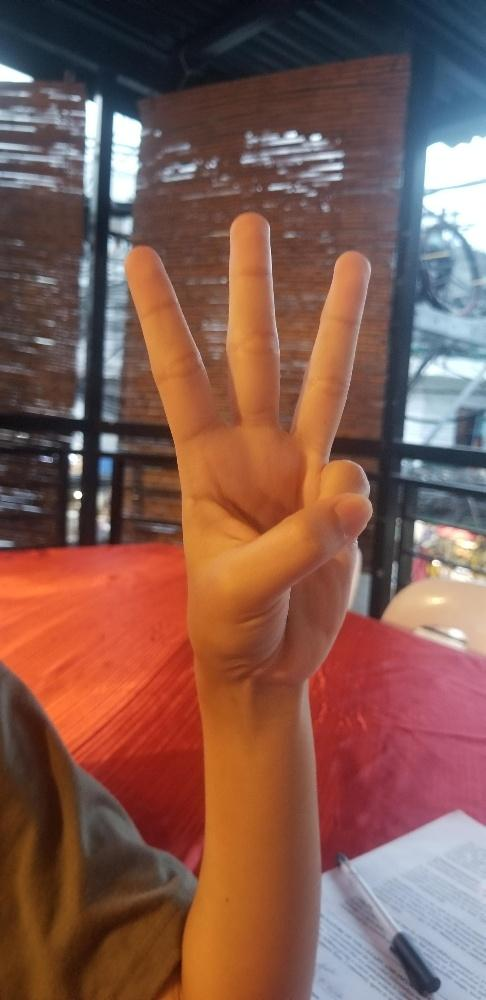w: (121, 211, 374, 682)
